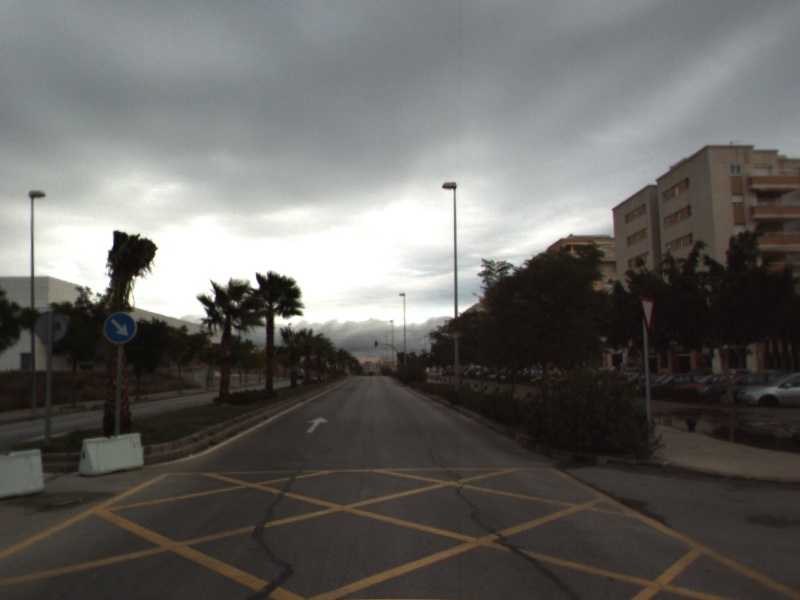STRAIGHT: (304, 414, 331, 435)
